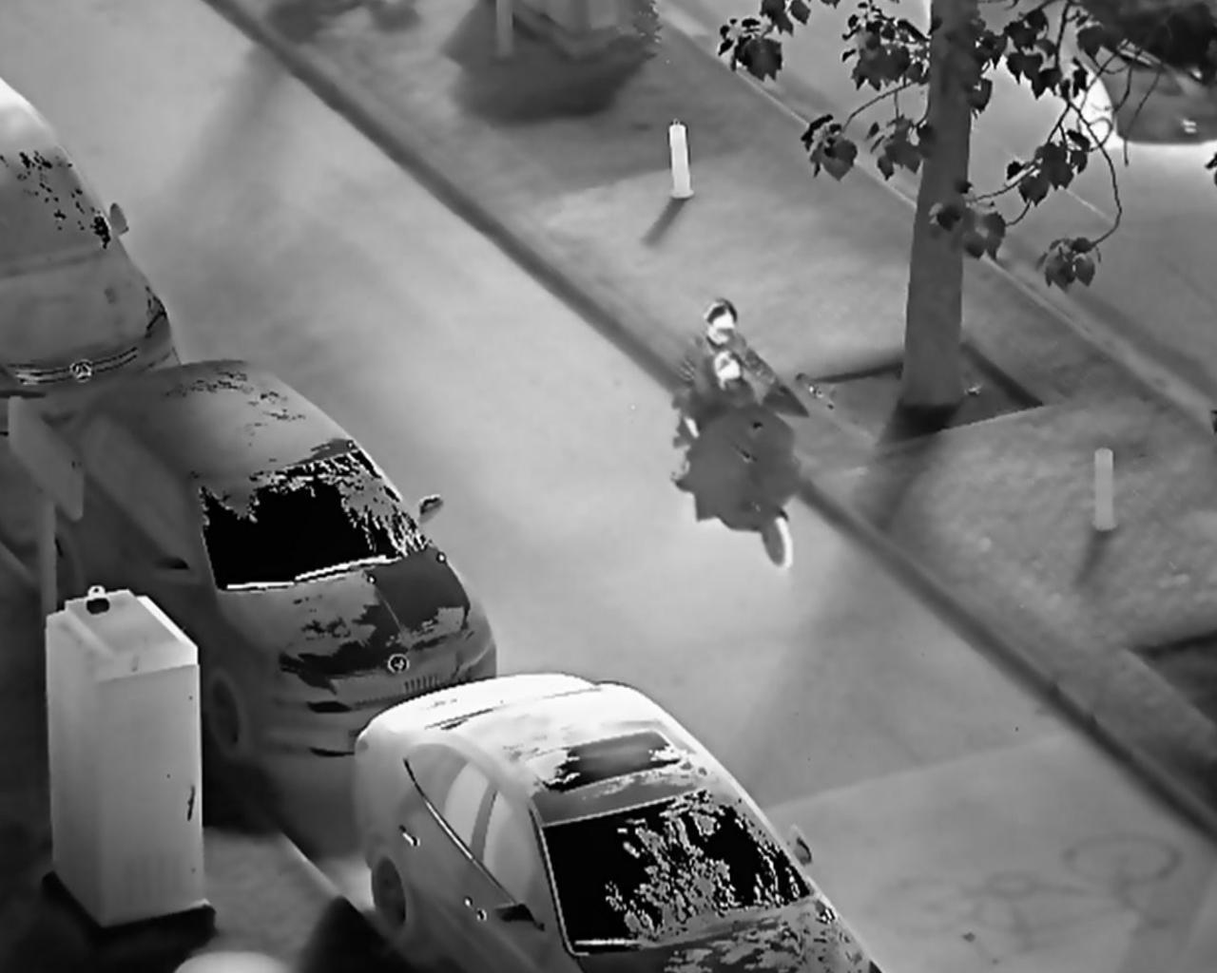person: (672, 296, 785, 448), (694, 350, 758, 419)
